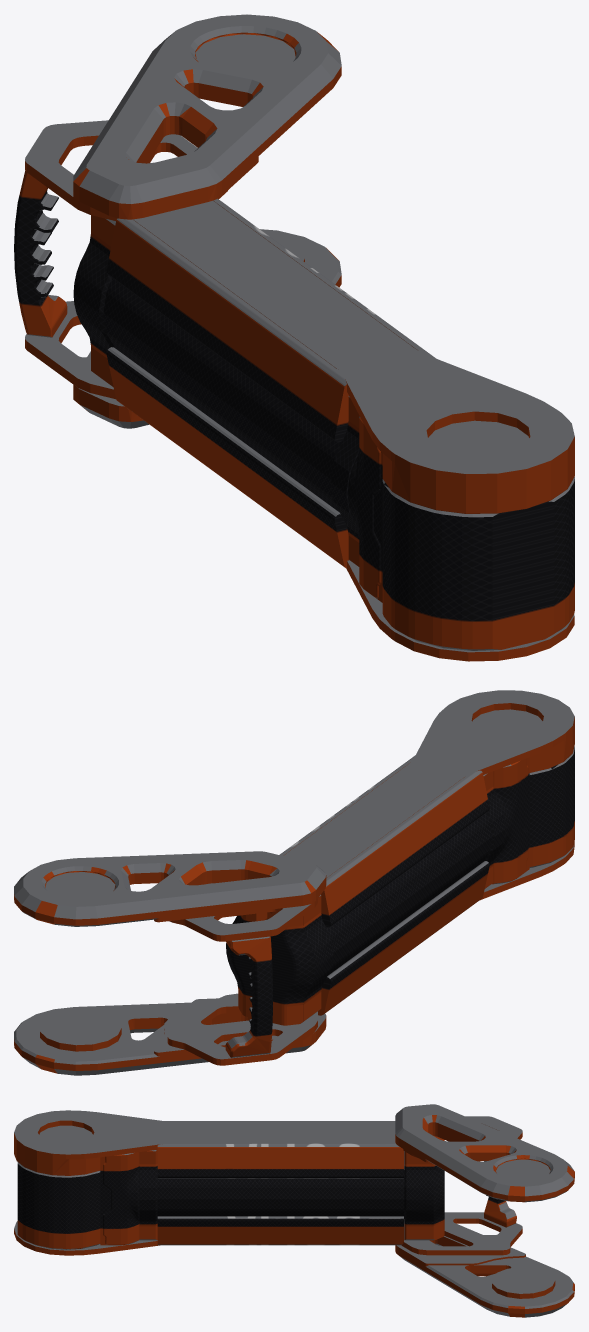
File: link_3_soma.glb
The picture shows the model from 3 angles, top to bottom: view 1: azimuth 30°, elevation 25°; view 2: azimuth 150°, elevation 25°; view 3: azimuth 270°, elevation 25°; orthographic projection. The views are drawn at different scales.
Parts seen in each view (by area): view 1: link_3_carbon_xz, link_3_soma_y; view 2: link_3_carbon_xz, link_3_soma_y; view 3: link_3_carbon_xz, link_3_soma_y.
Part boxes in pixels (left/top/right/bottom): link_3_carbon_xz: left=14, top=32, right=574, bottom=661; link_3_soma_y: left=25, top=14, right=574, bottom=652; link_3_carbon_xz: left=14, top=703, right=574, bottom=1073; link_3_soma_y: left=14, top=690, right=574, bottom=1075; link_3_carbon_xz: left=14, top=1115, right=574, bottom=1317; link_3_soma_y: left=14, top=1104, right=574, bottom=1317.
Bounding box in the file's own units: 0.122 × 0.079 × 0.3068.
2 materials, 2 textured.
